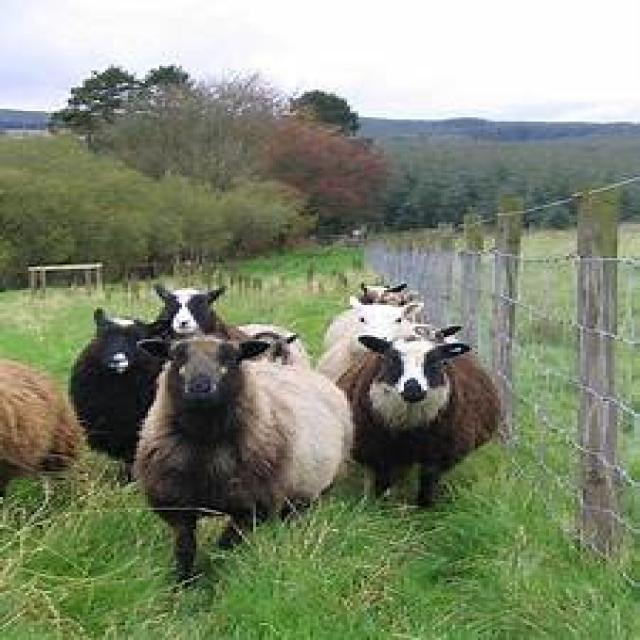animal: (139, 336, 345, 578), (329, 336, 502, 511), (70, 306, 180, 474), (0, 355, 82, 492), (324, 304, 419, 376), (155, 282, 230, 341)
